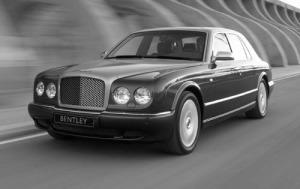car: (28, 27, 277, 155)
